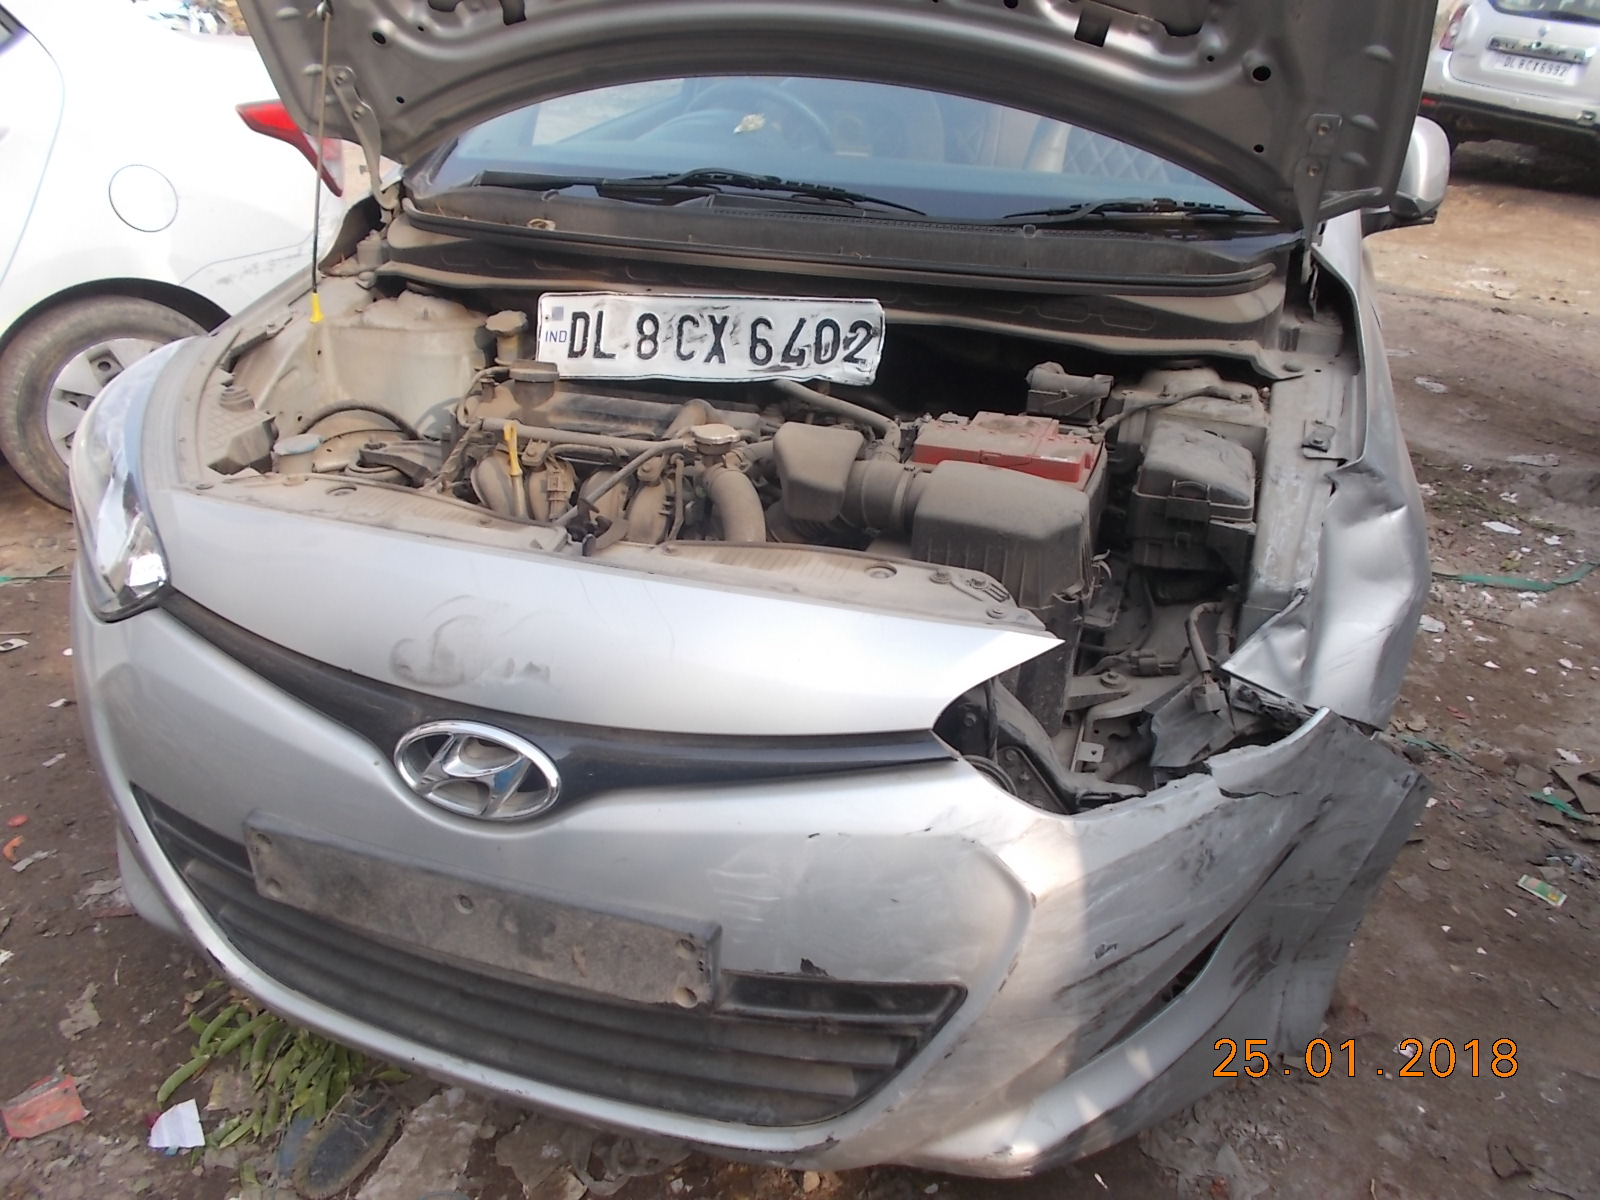Dent: (1311, 511, 1411, 710)
Tear: (1206, 764, 1299, 824)
